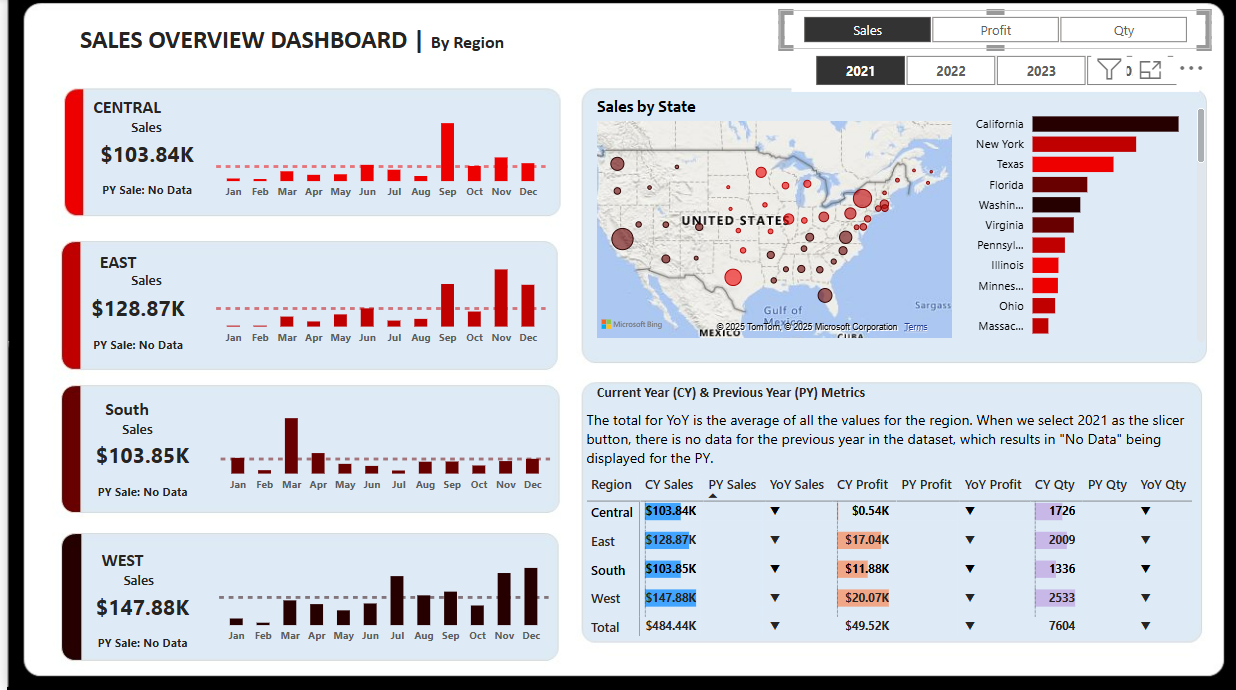

Layout of this report page (visuals, bound fields, positions):
{"tool":"powerbi","page":{"name":"Page 1","canvas":[1280,720],"ordinal":0},"visuals":[{"type":"slicer","fields":{"Values":["Select Metric.Select Metric"]},"box":[804.3,12.5,448.2,40.6],"z":0},{"type":"card","fields":{"Values":["Sales Data.Total Sales"]},"box":[68.7,140.6,156.2,45.3],"z":1000},{"type":"textbox","box":[79.7,96.8,90.6,43.7],"z":2000},{"type":"slicer","fields":{"Values":["Calendar Table.Year"]},"box":[817,52.5,424.4,44.5],"z":3000},{"type":"card","fields":{"Values":["Sales Data.Dynamic Title"]},"box":[79.7,118.7,132.8,35.9],"z":4000},{"type":"card","fields":{"Values":["Sales Data.PY KPI Sales"]},"box":[79.7,185.9,132.8,32.8],"z":5000},{"type":"clusteredColumnChart","fields":{"Y":["Sales Data.Total Sales"],"Category":["Calendar Table.Month"]},"box":[212.4,106.2,354.5,112.5],"z":6000},{"type":"textbox","box":[32.8,21.9,534.1,48.4],"z":7000},{"type":"card","fields":{"Values":["Sales Data.Total Sales"]},"box":[60,301.5,156.2,45.3],"z":8000},{"type":"textbox","box":[70.9,257.8,90.6,43.7],"z":9000},{"type":"card","fields":{"Values":["Sales Data.PY KPI Sales"]},"box":[70.9,346.8,132.8,32.8],"z":10000},{"type":"clusteredColumnChart","fields":{"Y":["Sales Data.Total Sales"],"Category":["Calendar Table.Month"]},"box":[212.4,257.7,354.5,112.5],"z":11000},{"type":"card","fields":{"Values":["Sales Data.Total Sales"]},"box":[64.8,455.2,156.2,45.3],"z":12000},{"type":"textbox","box":[79.7,410.8,90.6,43.7],"z":13000},{"type":"card","fields":{"Values":["Sales Data.PY KPI Sales"]},"box":[75.7,500.5,132.8,32.8],"z":14000},{"type":"clusteredColumnChart","fields":{"Y":["Sales Data.Total Sales"],"Category":["Calendar Table.Month"]},"box":[217.2,411.4,354.5,112.5],"z":15000},{"type":"card","fields":{"Values":["Sales Data.Total Sales"]},"box":[63.7,612.5,156.2,45.3],"z":16000},{"type":"textbox","box":[74.7,568.7,90.6,43.7],"z":17000},{"type":"card","fields":{"Values":["Sales Data.PY KPI Sales"]},"box":[74.7,657.7,132.8,32.8],"z":18000},{"type":"clusteredColumnChart","fields":{"Y":["Sales Data.Total Sales"],"Category":["Calendar Table.Month"]},"box":[216.2,568.6,354.5,112.5],"z":19000},{"type":"card","fields":{"Values":["Sales Data.Dynamic Title"]},"box":[79.7,278,132.8,35.9],"z":20000},{"type":"card","fields":{"Values":["Sales Data.Dynamic Title"]},"box":[70.3,432.6,132.8,35.9],"z":21000},{"type":"card","fields":{"Values":["Sales Data.Dynamic Title"]},"box":[71.8,589.6,132.3,35.9],"z":22000},{"type":"map","title":"Sales by State","fields":{"Size":["Sales Data.Total Sales"],"Category":["Sales Data.State/Province"],"Series":["Sales Data.Region"]},"box":[609.1,101.5,379.5,257.7],"z":23000},{"type":"barChart","fields":{"Y":["Sales Data.Total Sales"],"Category":["Sales Data.State/Province"],"Series":["Sales Data.Region"]},"box":[988.6,101.5,263.9,262.4],"z":24000},{"type":"pivotTable","fields":{"Rows":["Sales Data.Region"],"Values":["Sales Data.CY Sales","Sales Data.PY Sales","Sales Data.YoY Sales","Sales Data.CY Profit","Sales Data.PY Profit","Sales Data.YoY Profit","Sales Data.CY Qty","Sales Data.PY Qty","Sales Data.YoY Qty"]},"box":[598.2,490.4,643.5,190.5],"z":25000},{"type":"textbox","box":[609.1,395.1,299.9,37.5],"z":25001},{"type":"textbox","box":[598.2,423.3,654.4,76.5],"z":25002}]}

Visuals, with their boxes in screenshot pixels (x1, y1, x2, y2), scaled from the page's 1280x720 canvas onto the 1236x690 screenshot:
slicer - Select Metric.Select Metric: (777, 12, 1209, 51)
card - Sales Data.Total Sales: (66, 135, 217, 178)
textbox: (77, 93, 164, 135)
slicer - Calendar Table.Year: (789, 50, 1199, 93)
card - Sales Data.Dynamic Title: (77, 114, 205, 148)
card - Sales Data.PY KPI Sales: (77, 178, 205, 210)
clusteredColumnChart - Sales Data.Total Sales x Calendar Table.Month: (205, 102, 547, 210)
textbox: (32, 21, 547, 67)
card - Sales Data.Total Sales: (58, 289, 209, 332)
textbox: (68, 247, 156, 289)
card - Sales Data.PY KPI Sales: (68, 332, 197, 364)
clusteredColumnChart - Sales Data.Total Sales x Calendar Table.Month: (205, 247, 547, 355)
card - Sales Data.Total Sales: (63, 436, 213, 480)
textbox: (77, 394, 164, 436)
card - Sales Data.PY KPI Sales: (73, 480, 201, 511)
clusteredColumnChart - Sales Data.Total Sales x Calendar Table.Month: (210, 394, 552, 502)
card - Sales Data.Total Sales: (62, 587, 212, 630)
textbox: (72, 545, 160, 587)
card - Sales Data.PY KPI Sales: (72, 630, 200, 662)
clusteredColumnChart - Sales Data.Total Sales x Calendar Table.Month: (209, 545, 551, 653)
card - Sales Data.Dynamic Title: (77, 266, 205, 301)
card - Sales Data.Dynamic Title: (68, 415, 196, 449)
card - Sales Data.Dynamic Title: (69, 565, 197, 599)
"Sales by State" map: (588, 97, 955, 344)
barChart - Sales Data.Total Sales x Sales Data.State/Province: (955, 97, 1209, 349)
pivotTable - Sales Data.Region x Sales Data.CY Sales: (578, 470, 1199, 653)
textbox: (588, 379, 878, 415)
textbox: (578, 406, 1210, 479)
